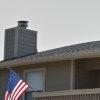Chimney: (3, 12, 52, 63)
